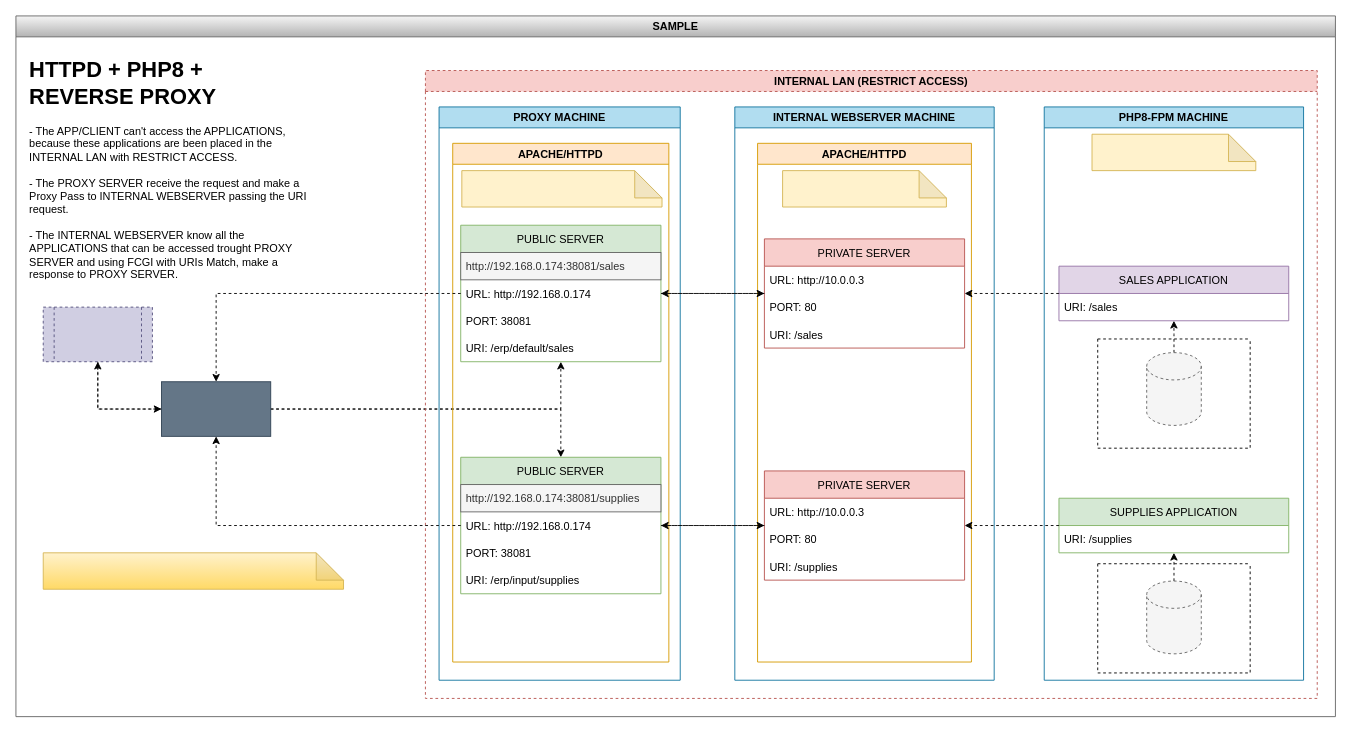
Some shapes in this 1351 by 733 pixel diagram are drawn without their labels. Here are the shapes that lost their labels. From the top down, the centre of each, then its label:
(x=1173, y=152): Private IP: 10.0.0.4
(x=561, y=188): Public IP: 192.168.0.174 Private IP: 10.0.0.2
(x=864, y=188): Private IP: 10.0.0.3
(x=97, y=334): APP
(x=216, y=408): CLIENT/REQUEST
(x=1173, y=388): DB SALES
(x=193, y=570): EXPOSED PORT FROM APACHE/HTTPD: 38081
(x=1173, y=617): DB SUPPLIES
